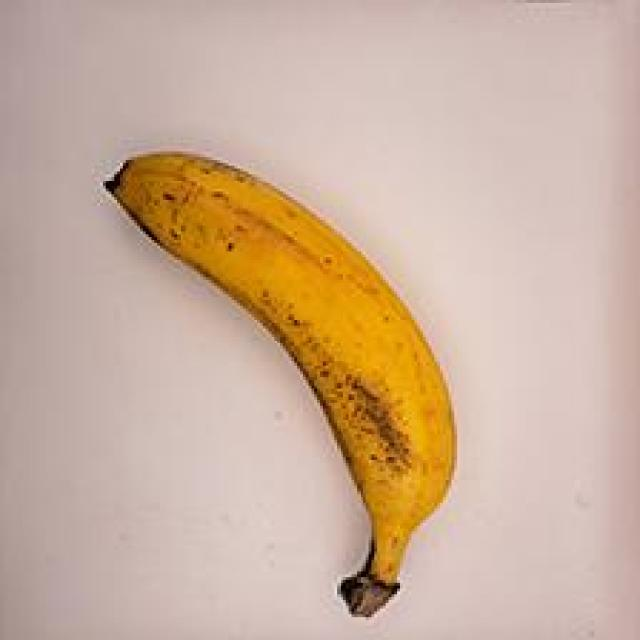Overripe: (80, 94, 480, 639)
